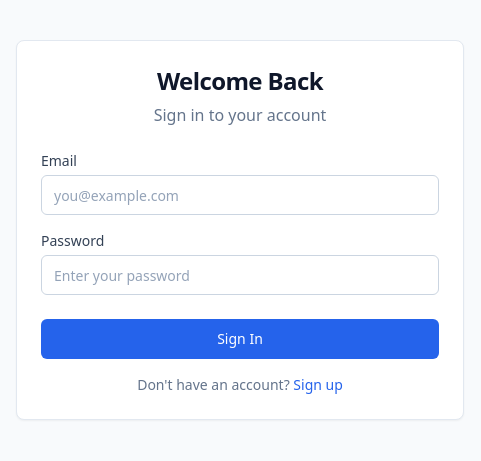
Test case: LoginPage › shows validation errors instead of submitting when the form is empty
Click the button "Sign In".
click(240, 339)  # box [41,319,439,359]
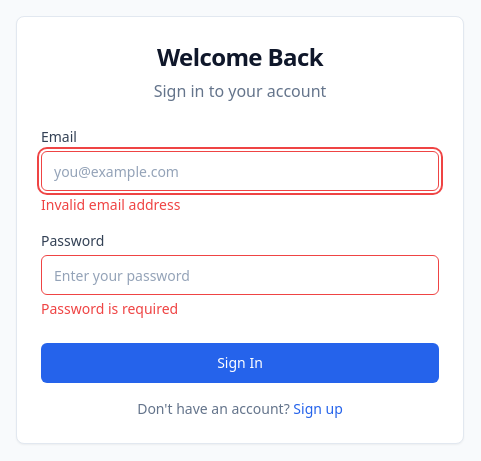
expect the text "Invalid email address" is shown: met, box [41,195,180,214]
